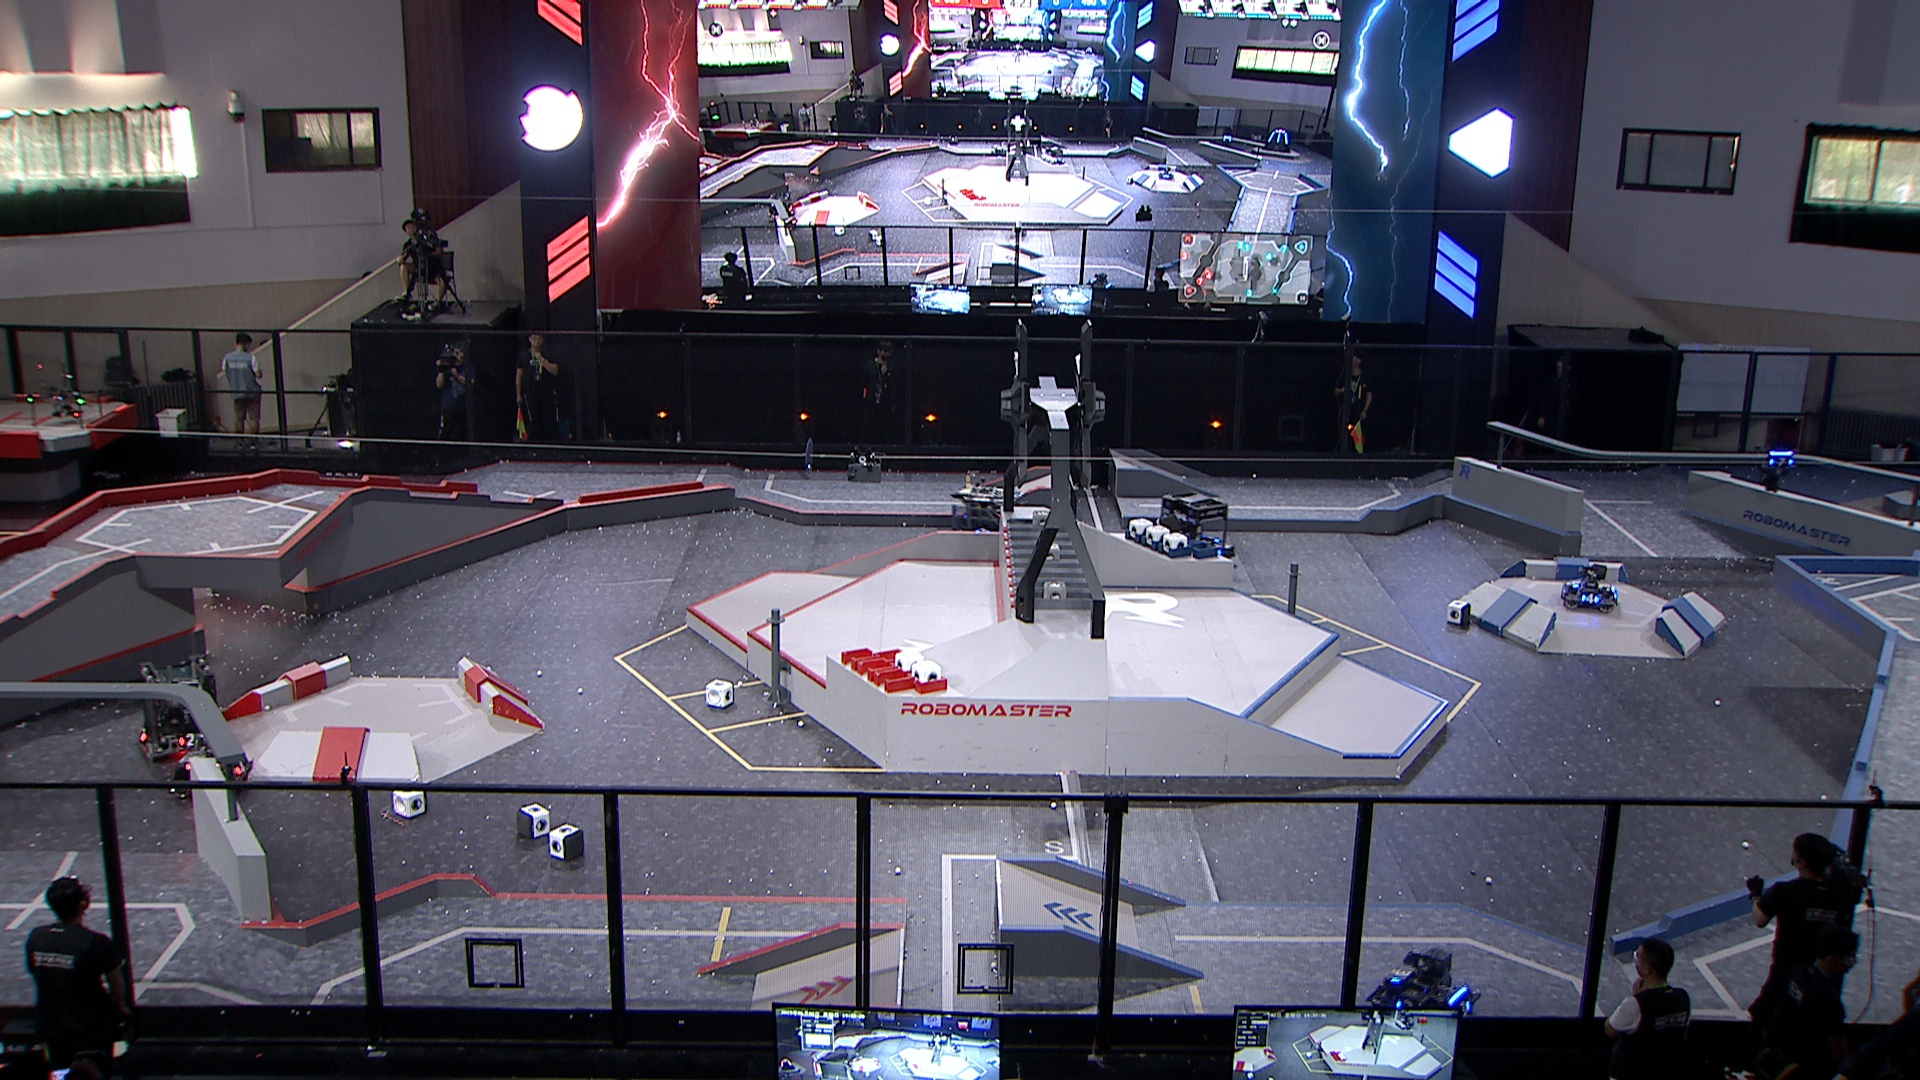armor: (175, 731, 200, 749), (1395, 997, 1423, 1011), (1389, 967, 1414, 982), (1457, 1001, 1476, 1021), (229, 760, 249, 777), (1580, 591, 1602, 605), (1768, 456, 1793, 467), (1569, 579, 1584, 589)
car: (1366, 945, 1482, 1038), (138, 655, 224, 764), (1155, 489, 1240, 571), (948, 487, 1036, 562), (166, 727, 256, 796), (1560, 564, 1622, 612)
ignore: (1262, 128, 1291, 154), (767, 193, 793, 223), (1087, 272, 1114, 290), (1044, 145, 1067, 166), (783, 215, 799, 233), (1159, 164, 1174, 183), (1221, 135, 1236, 148)
watcher: (1760, 450, 1795, 495)
